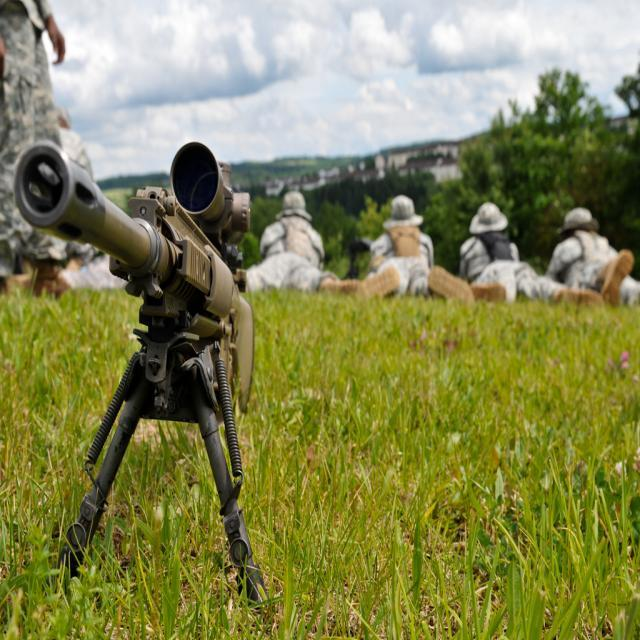weapon: (23, 168, 273, 624)
